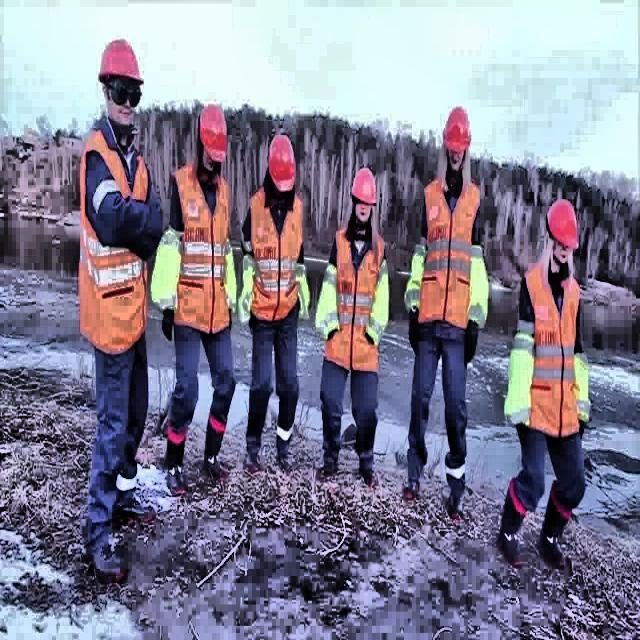safety_helmet: (198, 100, 228, 162), (100, 42, 142, 84), (266, 135, 294, 197), (547, 199, 578, 251), (446, 111, 470, 153), (352, 172, 378, 206)
safety_jacket: (77, 127, 147, 352), (169, 169, 231, 332), (524, 265, 583, 435), (322, 229, 387, 371), (419, 178, 481, 324), (248, 192, 304, 320)
